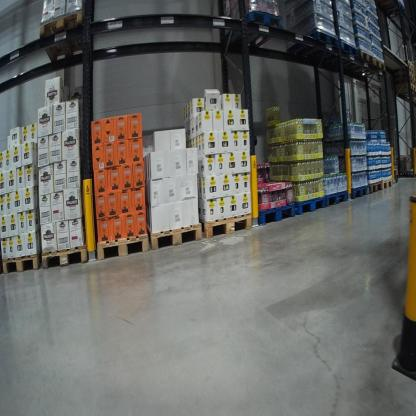pallet: (32, 4, 94, 76), (144, 199, 205, 256), (223, 6, 285, 57), (196, 196, 255, 247), (284, 30, 361, 68), (96, 219, 148, 262), (39, 237, 89, 279), (256, 198, 298, 232), (1, 251, 40, 278), (291, 194, 325, 220), (324, 186, 349, 213), (361, 178, 382, 198), (350, 183, 370, 201), (394, 56, 414, 73), (360, 46, 378, 63), (395, 85, 415, 97), (380, 176, 394, 193), (394, 67, 415, 78), (394, 72, 416, 82), (374, 58, 387, 73), (395, 79, 416, 86)
